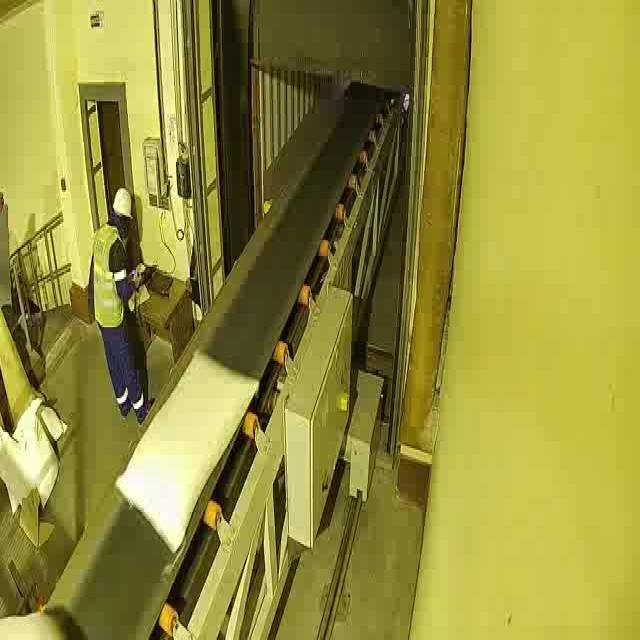bag: (113, 341, 260, 553), (0, 602, 83, 636)
